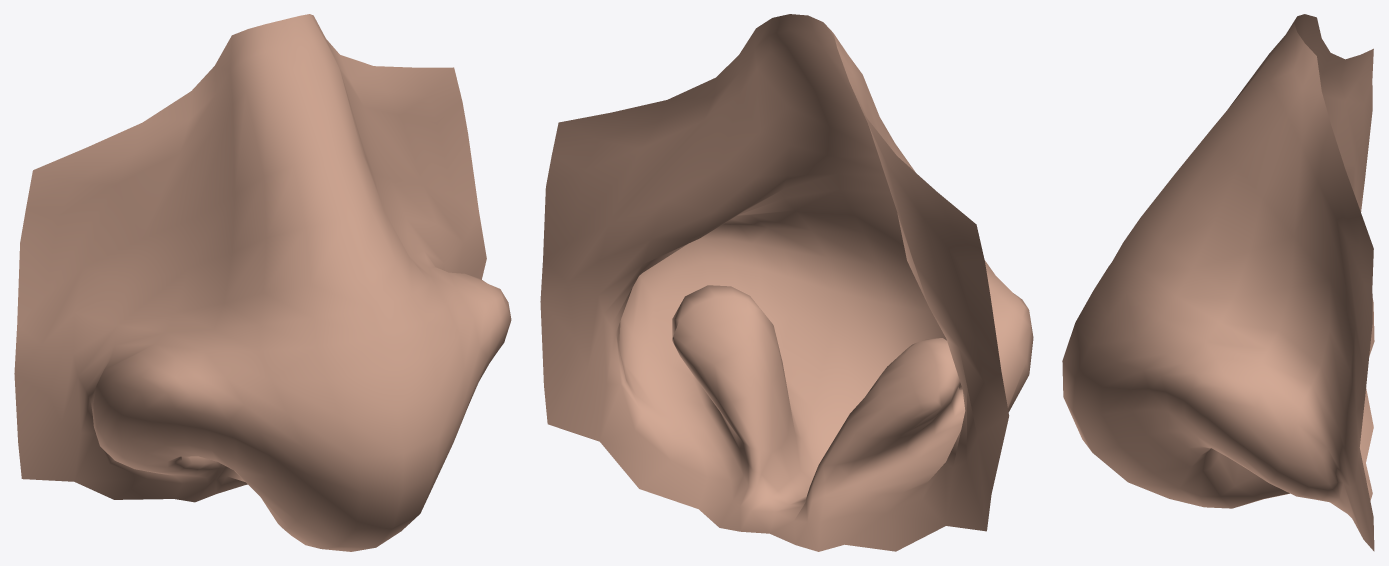
File: nose_6.fbx
The picture shows the model from 3 angles, left to right: view 1: azimuth 30°, elevation 25°; view 2: azimuth 150°, elevation 25°; view 3: azimuth 270°, elevation 25°; orthographic projection. The views are drawn at different scales.
Parts seen in each view (by area): view 1: pasted__polySurface2; view 2: pasted__polySurface2; view 3: pasted__polySurface2.
Part boxes in pixels (box(x1,y1,x2,y2)): pasted__polySurface2: box(14, 14, 511, 551); pasted__polySurface2: box(540, 14, 1033, 551); pasted__polySurface2: box(1062, 14, 1374, 551).
Size of the model in its own units: 0.1074 by 0.1085 by 0.0631.
